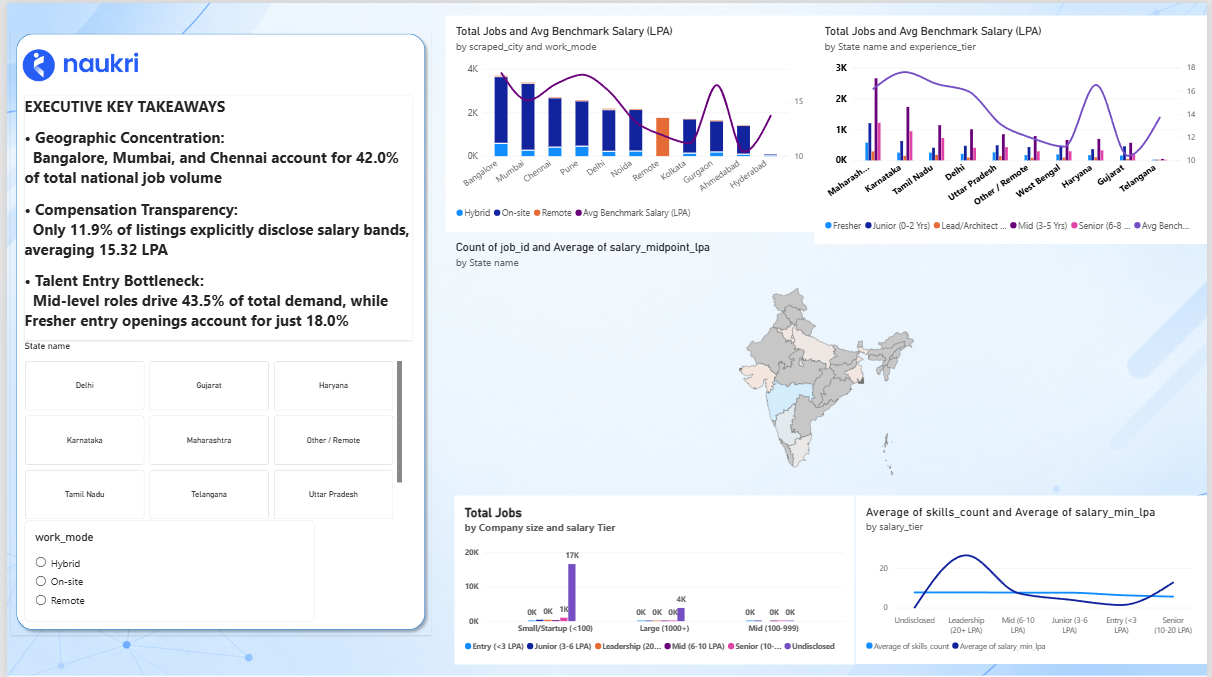

This screenshot's page, from the dashboard's own definition file:
{"tool":"powerbi","page":{"name":"Page 3","canvas":[1920,1080],"ordinal":2},"visuals":[{"type":"shapeMap","fields":{"Category":["indian_tech_jobs_2026.State name"],"Value":["CountNonNull(indian_tech_jobs_2026.job_id)"]},"box":[702,366,1218,422],"z":0},{"type":"lineStackedColumnComboChart","fields":{"Category":["indian_tech_jobs_2026.scraped_city"],"Series":["indian_tech_jobs_2026.work_mode"],"Y":["state_name.Total Jobs"],"Y2":["state_name.Avg Benchmark Salary (LPA)"]},"box":[702,20,590,346],"z":1000},{"type":"lineClusteredColumnComboChart","fields":{"Category":["indian_tech_jobs_2026.State name"],"Series":["indian_tech_jobs_2026.experience_tier"],"Y":["state_name.Total Jobs"],"Y2":["state_name.Avg Benchmark Salary (LPA)"]},"box":[1292.1,19.9,628.6,365.7],"z":2000},{"type":"clusteredColumnChart","fields":{"Category":["indian_tech_jobs_2026.company_size_bucket"],"Series":["indian_tech_jobs_2026.salary_tier"],"Y":["state_name.Total Jobs"]},"box":[716,788,640,270],"z":3000},{"type":"lineChart","fields":{"Category":["indian_tech_jobs_2026.salary_tier"],"Y":["Avg(indian_tech_jobs_2026.skills_count)","Avg(indian_tech_jobs_2026.salary_min_lpa)"]},"box":[1357.2,787.2,562.8,269.6],"z":4000},{"type":"shape","box":[6,40,672,972],"z":5000},{"type":"textbox","box":[28,148,620,392],"z":6000},{"type":"image","box":[6.4,74.3,224.3,51.4],"z":7000},{"type":"advancedSlicerVisual","fields":{"Values":["indian_tech_jobs_2026.State name"]},"box":[28,540,604,288],"z":7001},{"type":"listSlicer","fields":{"Values":["indian_tech_jobs_2026.work_mode"]},"box":[28,828,464,162],"z":7002}]}

Visuals, with their boxes in screenshot pixels (x1, y1, x2, y2), scaled from the page's 1920x1080 canvas onto the 1212x677 screenshot:
shapeMap - indian_tech_jobs_2026.State name x CountNonNull(indian_tech_jobs_2026.job_id): l=443, t=229, r=1211, b=494
lineStackedColumnComboChart - indian_tech_jobs_2026.scraped_city x indian_tech_jobs_2026.work_mode: l=443, t=13, r=816, b=229
lineClusteredColumnComboChart - indian_tech_jobs_2026.State name x indian_tech_jobs_2026.experience_tier: l=816, t=12, r=1211, b=242
clusteredColumnChart - indian_tech_jobs_2026.company_size_bucket x indian_tech_jobs_2026.salary_tier: l=452, t=494, r=856, b=663
lineChart - indian_tech_jobs_2026.salary_tier x Avg(indian_tech_jobs_2026.skills_count): l=857, t=493, r=1211, b=662
shape: l=4, t=25, r=428, b=634
textbox: l=18, t=93, r=409, b=338
image: l=4, t=47, r=146, b=79
advancedSlicerVisual - indian_tech_jobs_2026.State name: l=18, t=338, r=399, b=519
listSlicer - indian_tech_jobs_2026.work_mode: l=18, t=519, r=311, b=621
